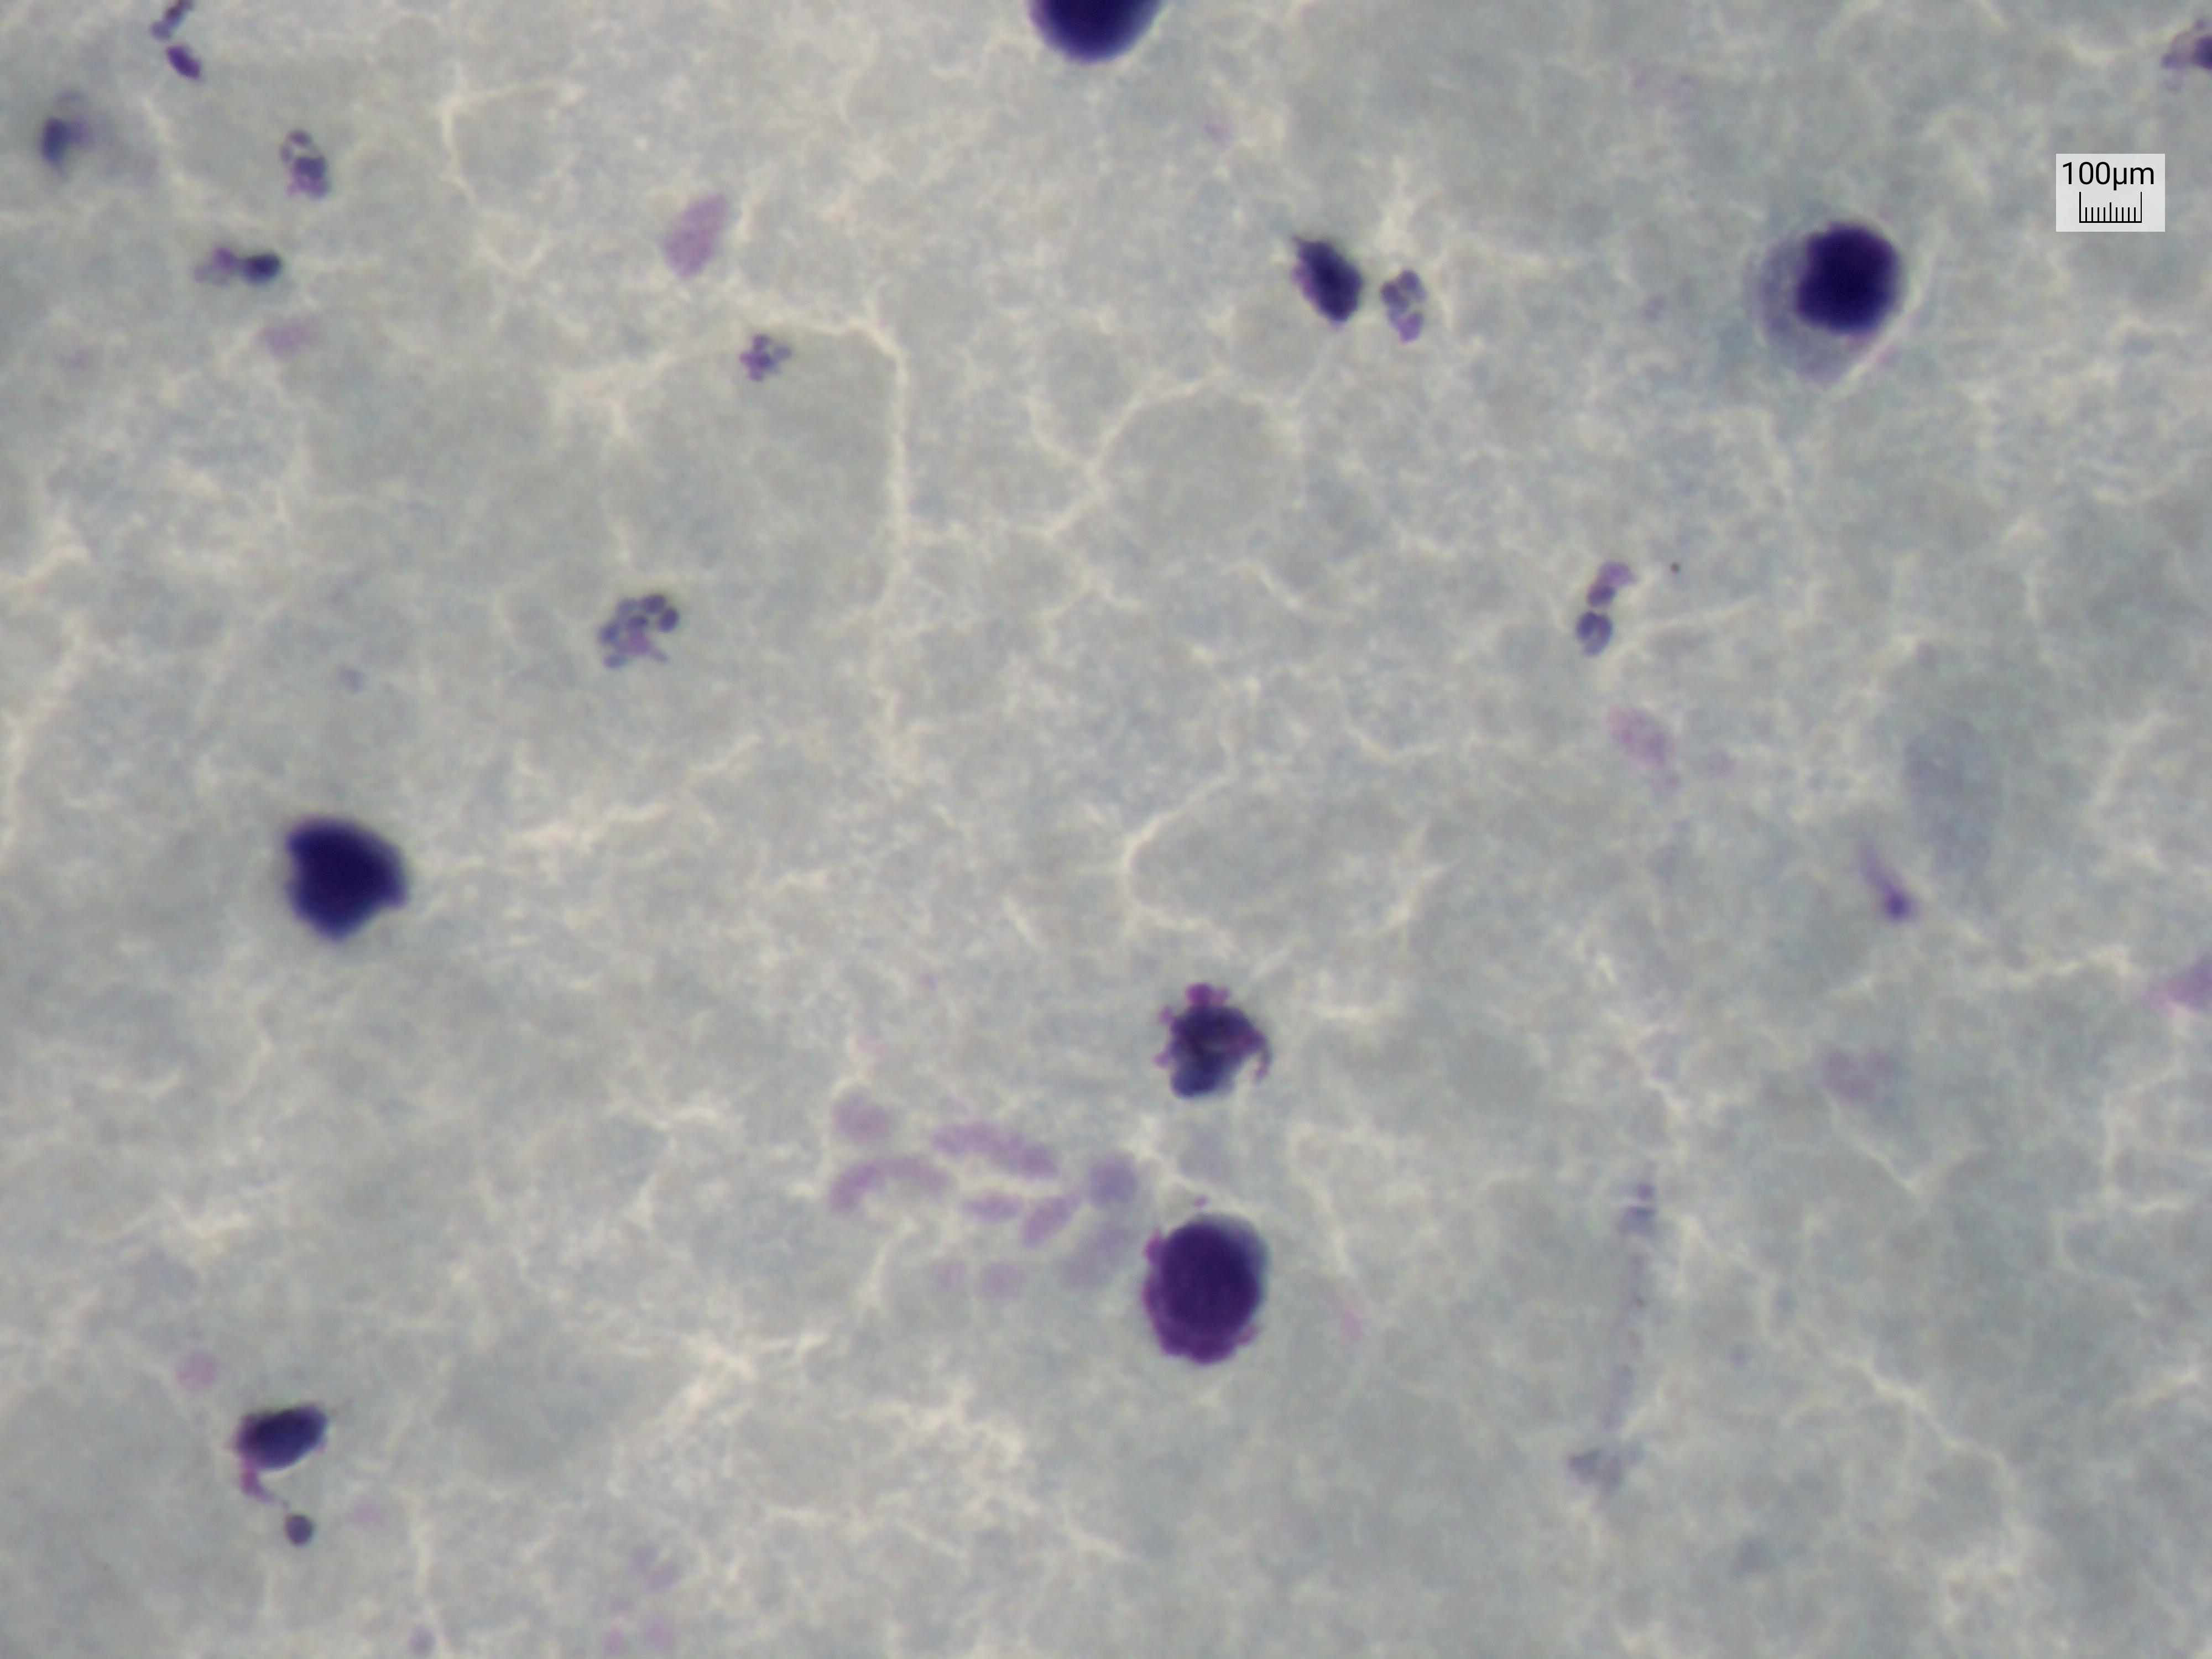p.vivax: (185, 1375, 368, 1568), (1143, 955, 1285, 1110), (580, 547, 704, 708), (145, 216, 331, 315), (1548, 528, 1648, 676), (9, 64, 108, 192), (251, 108, 347, 237), (1844, 824, 1933, 955), (141, 0, 232, 98), (730, 314, 792, 430), (1379, 249, 1439, 364)
